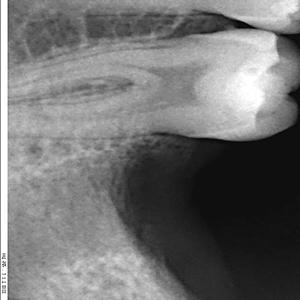tooth: (10, 31, 300, 144)
